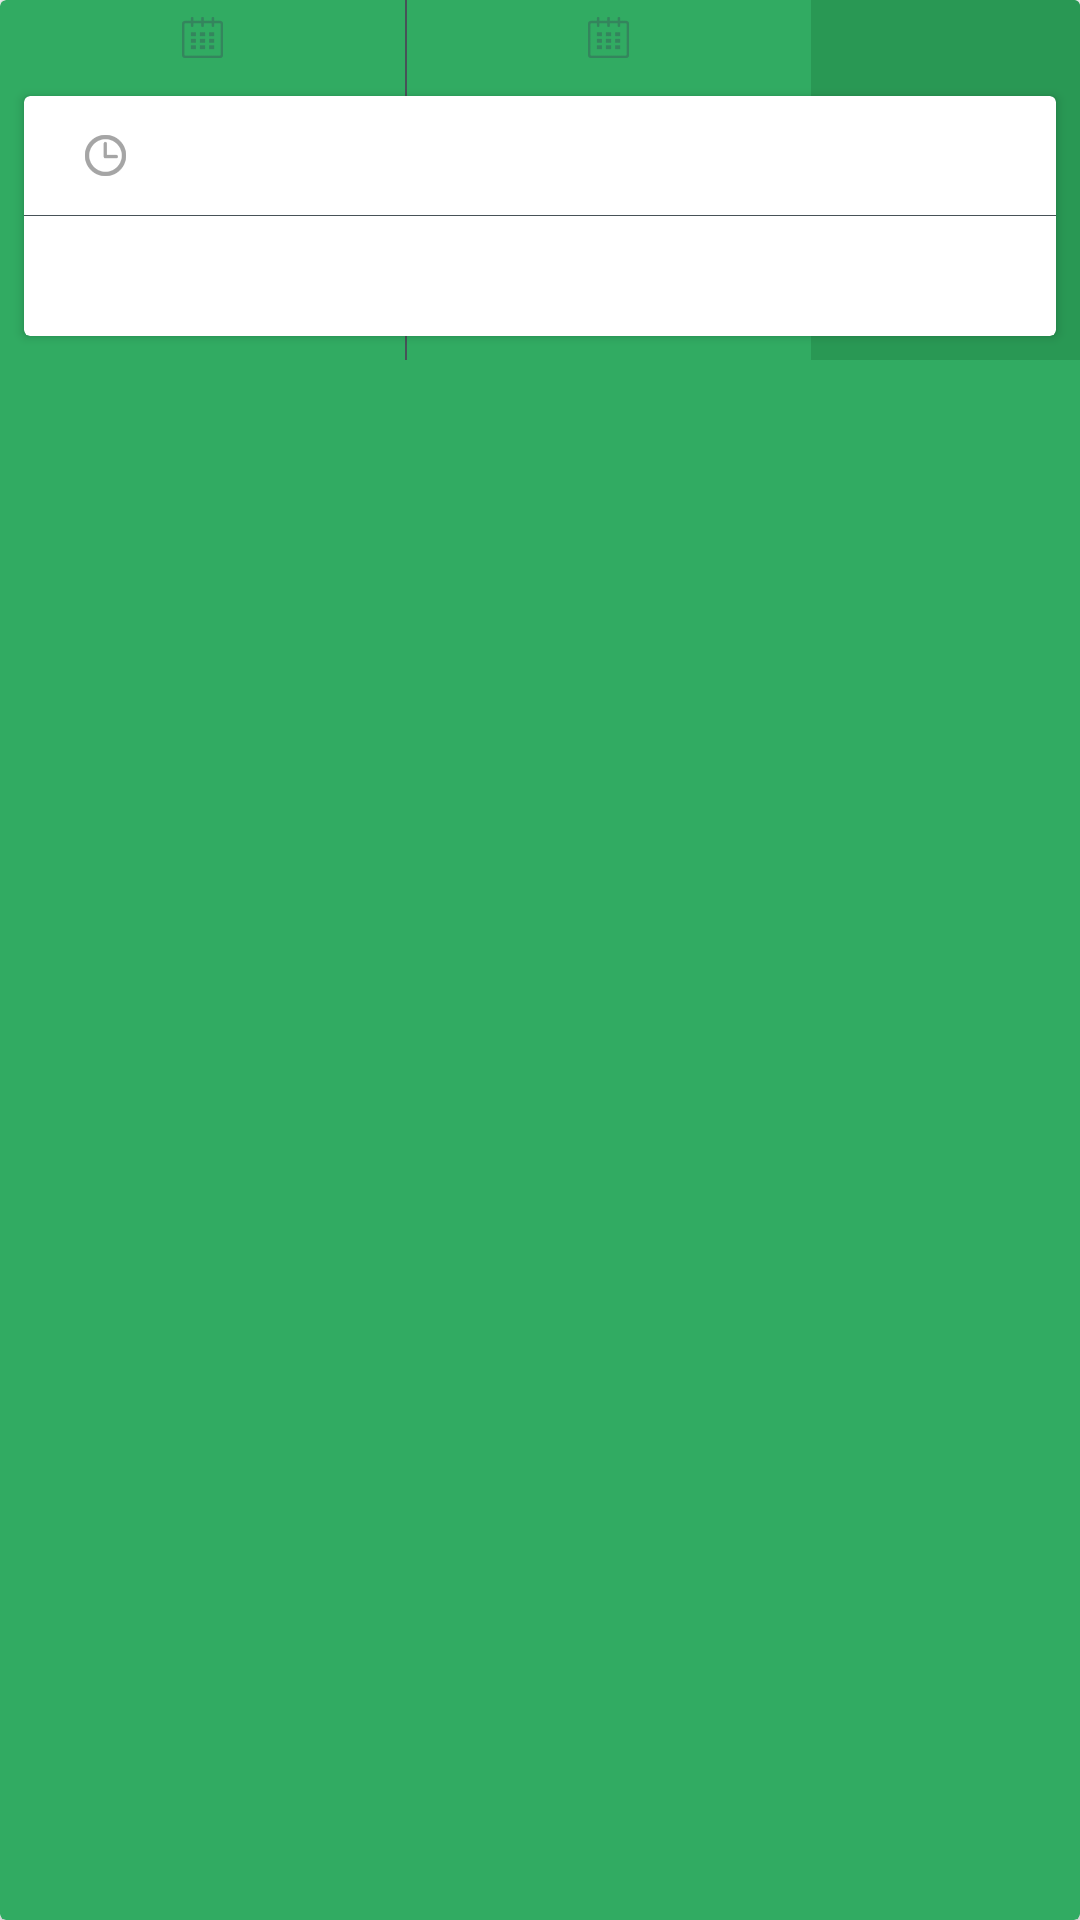

Icon click points for this 1080*1920 phone screenshot, format point (x, y):
abs date: point (202, 37), point (608, 37)
abs time: point (105, 155)
